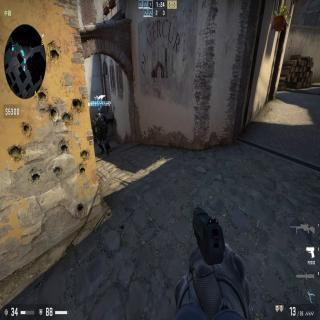CT-Body: (93, 113, 109, 155)
CT-Head: (97, 113, 102, 121)
